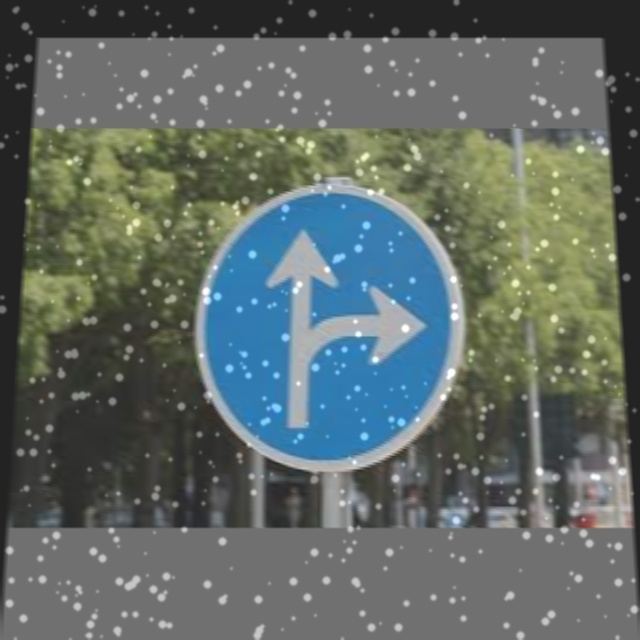Compulsory_Ahead_or_Turn_Right: (191, 186, 470, 473)
